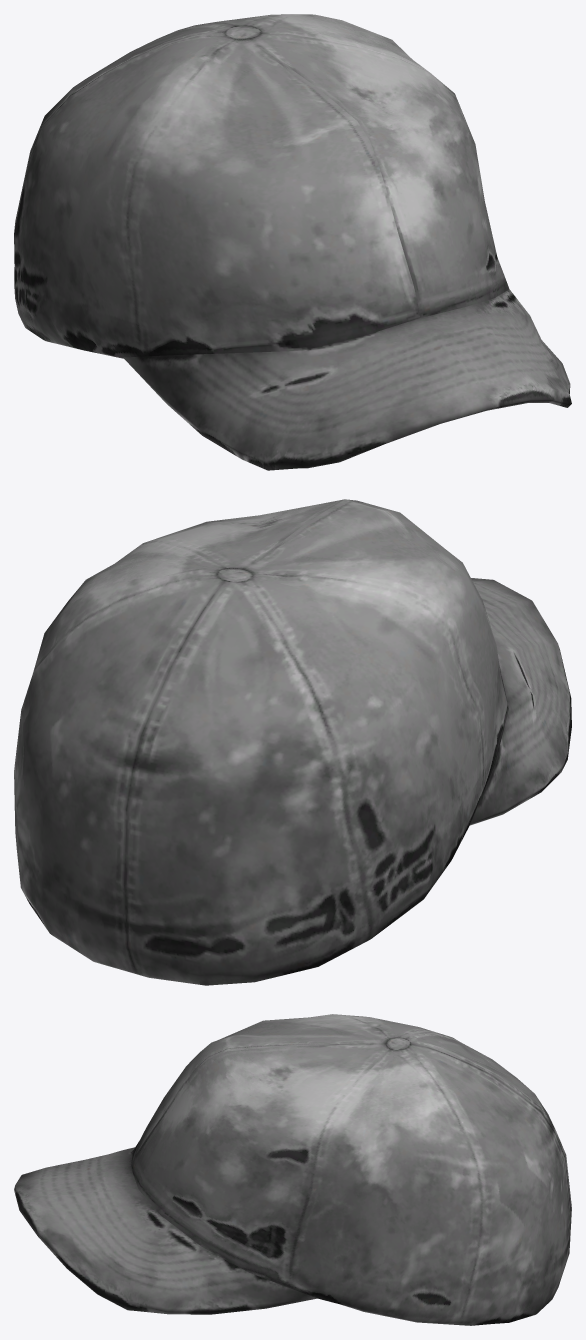
File: SurvivorMale_Head_Hat_BaseballCap_LOD0.glb
3 renders of one model, top to bottom at view 1: azimuth 30°, elevation 25°; view 2: azimuth 150°, elevation 25°; view 3: azimuth 270°, elevation 25°, orthographic. The views are drawn at different scales.
Parts seen in each view (by area): view 1: Hoodie; view 2: Hoodie; view 3: Hoodie.
Boxes of the visible parts, box(x1,y1,x2,y2) form: Hoodie: box(14, 14, 571, 470); Hoodie: box(14, 499, 571, 985); Hoodie: box(14, 1014, 571, 1325).
Size of the model in its own units: 0.1749 by 0.1359 by 0.2823.
1 material, 1 textured.
